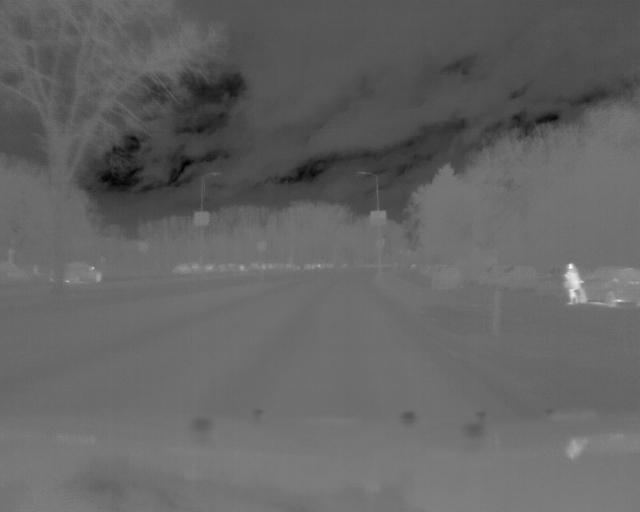car: (577, 264, 640, 307), (57, 260, 107, 287)
person: (564, 261, 583, 306)
